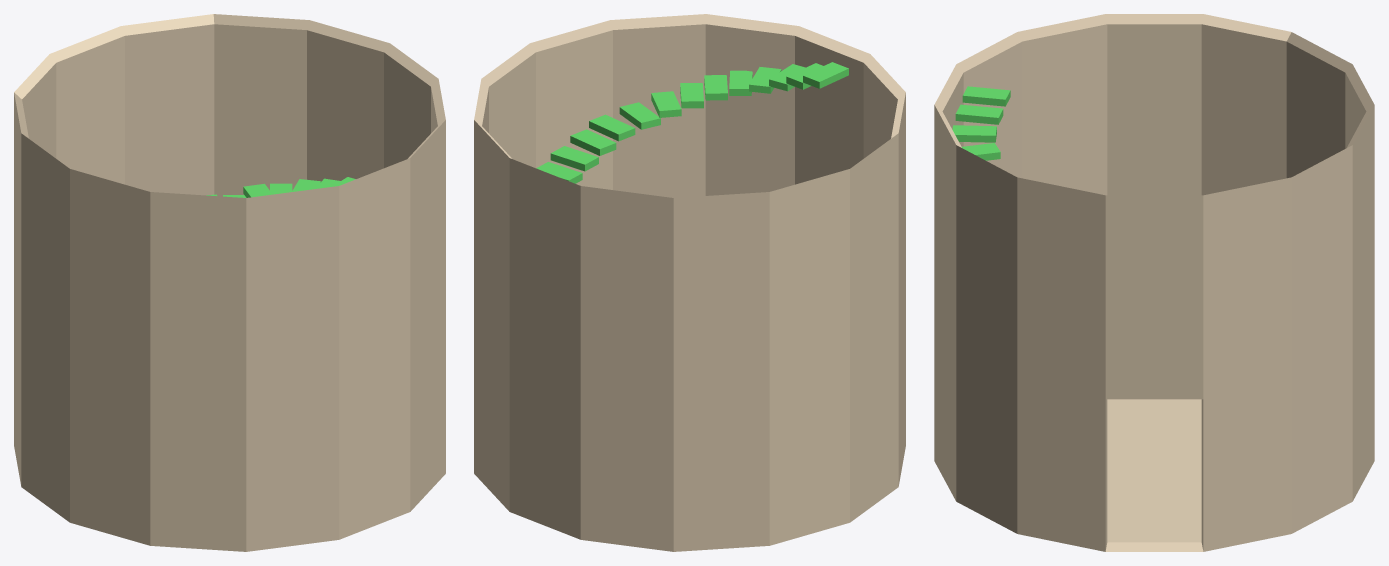
The model's file is testa.gltf.
The picture shows the model from 3 angles, left to right: view 1: azimuth 30°, elevation 25°; view 2: azimuth 150°, elevation 25°; view 3: azimuth 270°, elevation 25°; orthographic projection.
Parts seen in each view (by area): view 1: Cylinder, Cube.038; view 2: Cylinder, Cube.038; view 3: Cylinder, Cube.038.
Boxes of the visible parts, x1,y1,x2,y2 form: Cylinder: [14, 14, 445, 551]; Cube.038: [206, 177, 355, 197]; Cylinder: [474, 14, 905, 551]; Cube.038: [536, 62, 848, 183]; Cylinder: [934, 14, 1374, 551]; Cube.038: [952, 86, 1010, 160].
Size of what is drawn, in the model's own units: 15.21 by 13.95 by 15.6.
